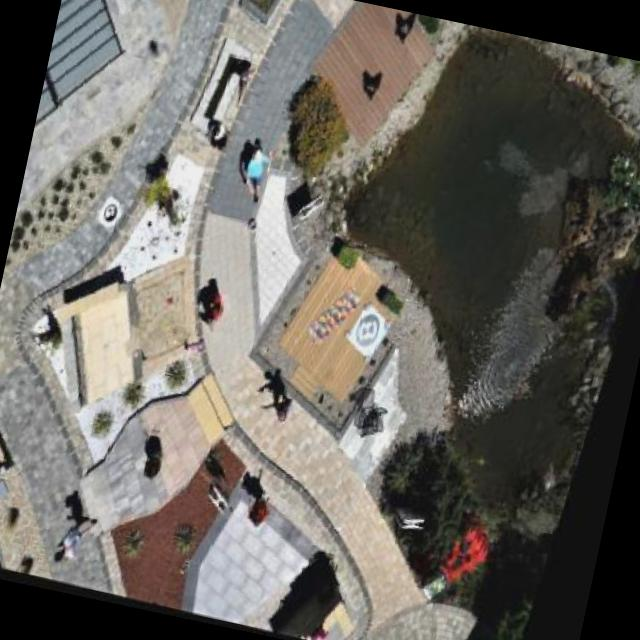Person: (234, 136, 289, 213), (258, 390, 310, 433)
